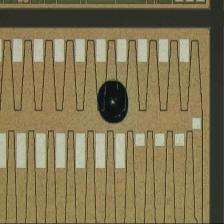PARTICLE: (96, 79, 132, 128)
